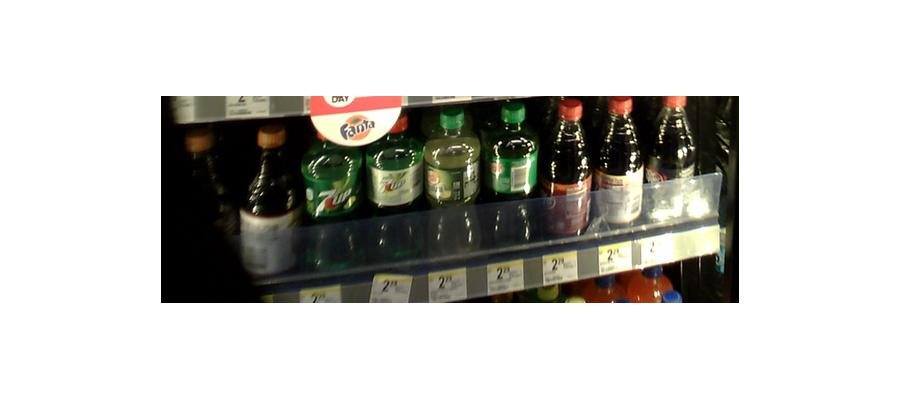bottle: (242, 117, 298, 282), (423, 101, 481, 255), (303, 125, 363, 267), (368, 116, 425, 250), (484, 98, 537, 241), (541, 96, 593, 239), (596, 94, 645, 229), (649, 92, 695, 220)
